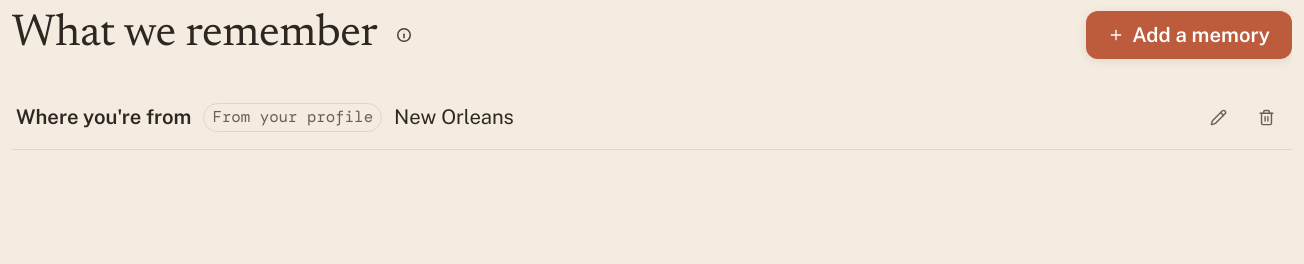
Test: MemoriesList — row edit/forget › edit → cancel: discards the draft without saving
Click the button named "Edit".
click(1218, 117)  # box [1196,95,1240,139]
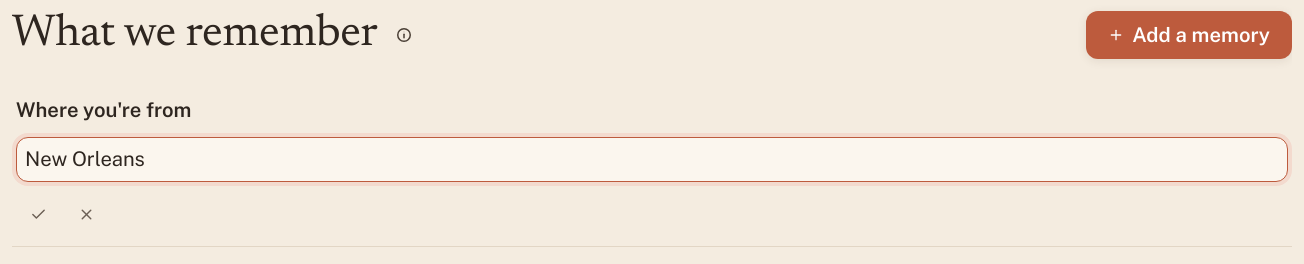
Replace the text in the field with placeholder "e.g. New Orleans, Louisiana" with "Austin" at (652, 160), box [16,137,1288,182]
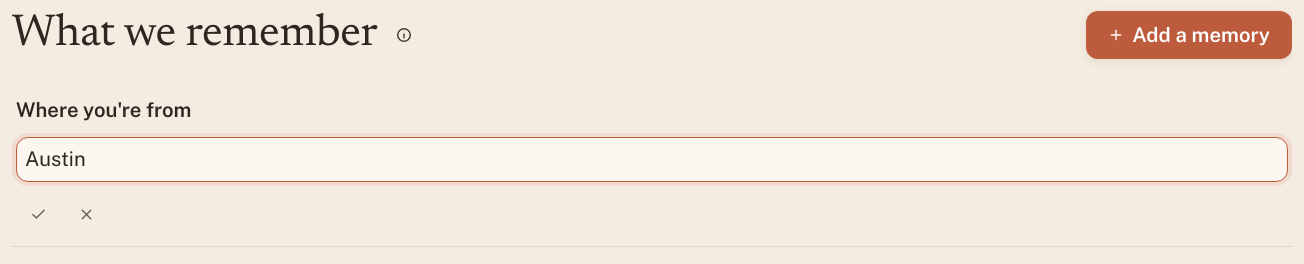
Click the button named "Cancel".
click(86, 214)  # box [64,192,108,236]
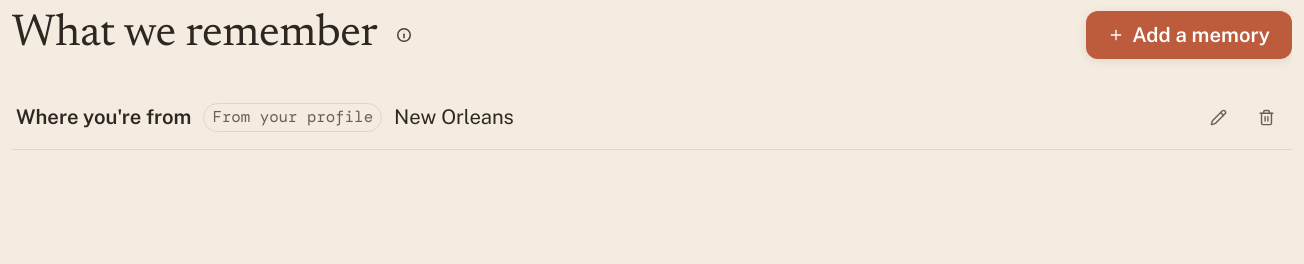
Expected: the text "New Orleans" is shown, [394,105,514,129]
